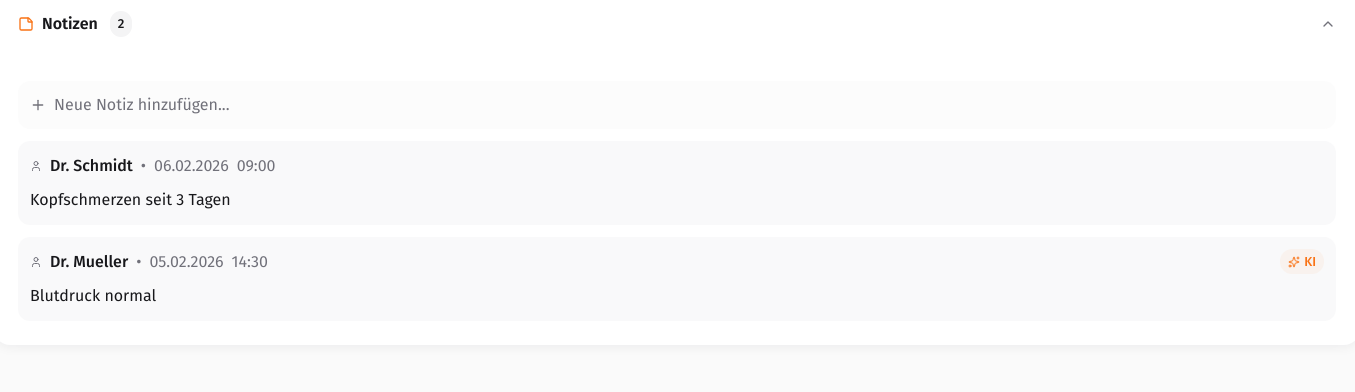
Scenario: PatientNotes › shows error on save failure
This screenshot has width=1355, height=392.
Expected: the text "Kopfschmerzen seit 3 Tagen" is shown, [30,190,231,209]
Step 1. Click the button "Neue Notiz hinzufügen..." → click(142, 104), box [18,81,1336,129]
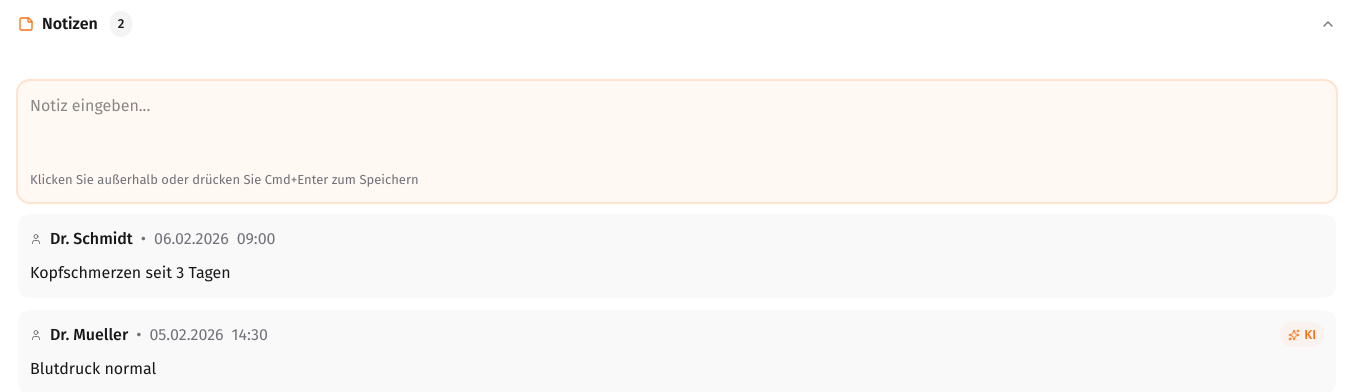
Step 2. Type "Failing note" into the text box with placeholder "Notiz eingeben..." → (677, 123), box [30,93,1324,153]
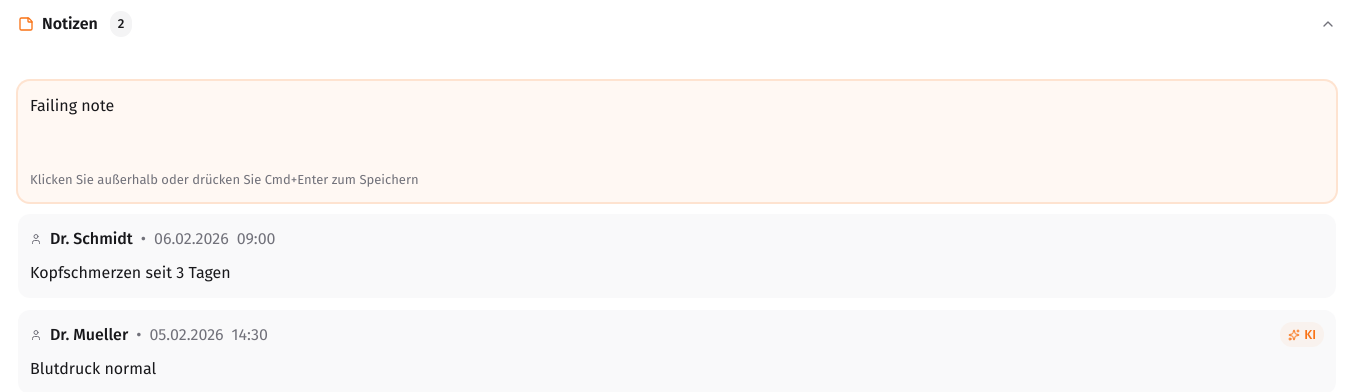
Step 3. Leave the text box with placeholder "Notiz eingeben...", box [30,93,1324,153]
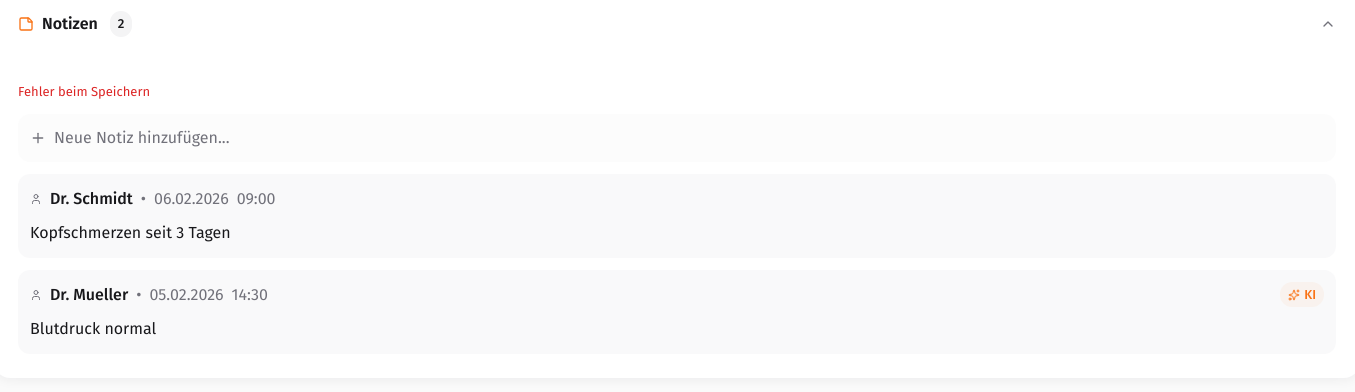
Now the text "Fehler beim Speichern" is shown, box [18,84,150,99]
